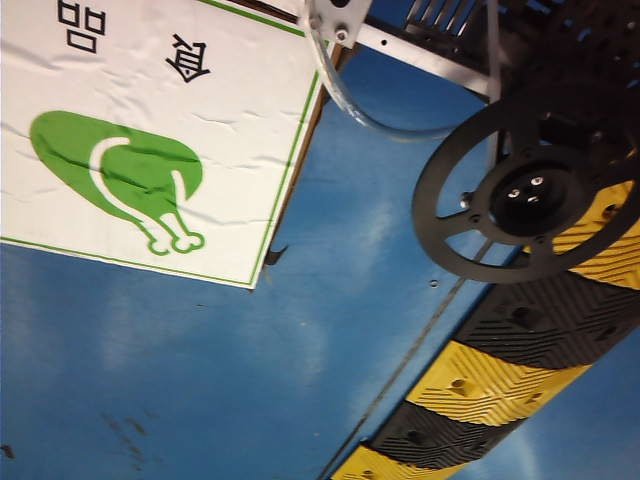Cube_food: (0, 0, 310, 271)
